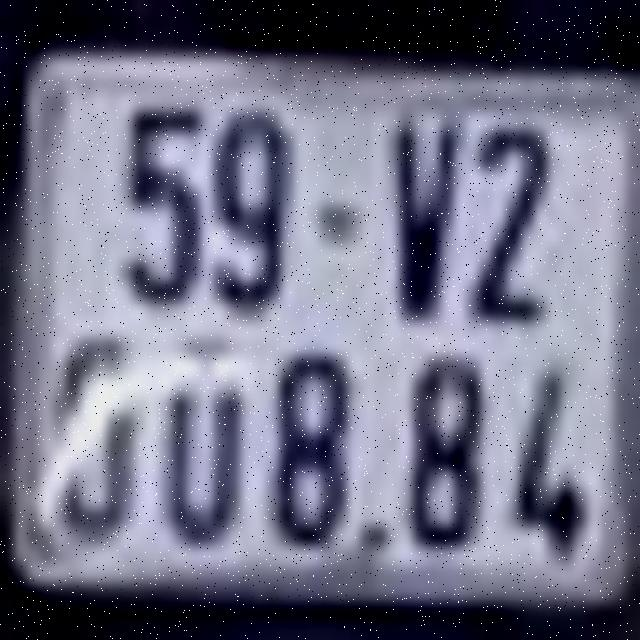0: (55, 333, 135, 539), (165, 335, 241, 546)
2: (473, 123, 550, 324)
4: (516, 366, 587, 561)
5: (122, 103, 204, 305)
8: (274, 348, 349, 548), (412, 355, 480, 549)
9: (211, 104, 288, 315)
V: (389, 113, 460, 321)
